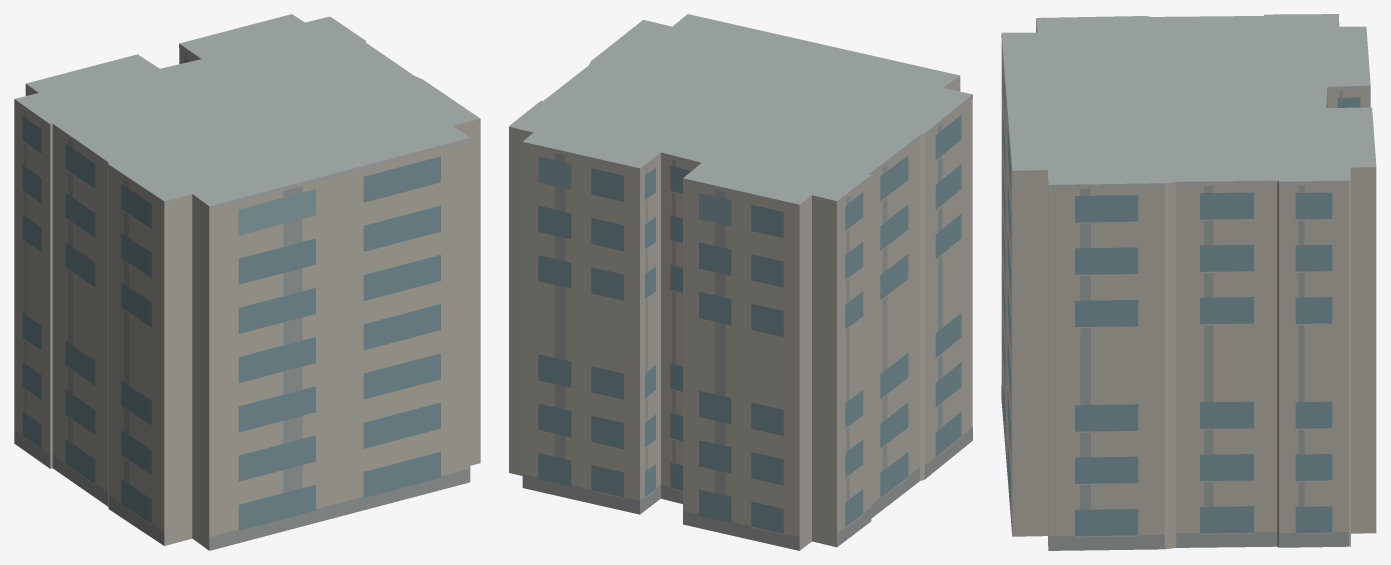
The model's file is survey-upis-32840839.glb.
3 renders of one model, left to right at view 1: azimuth 30°, elevation 25°; view 2: azimuth 150°, elevation 25°; view 3: azimuth 270°, elevation 25°, orthographic. The views are drawn at different scales.
Parts seen in each view (by area): view 1: survey-upis-32840839.tmp; view 2: survey-upis-32840839.tmp; view 3: survey-upis-32840839.tmp.
Part boxes in pixels (<box>): survey-upis-32840839.tmp: <box>14,14,480,550</box>; survey-upis-32840839.tmp: <box>509,14,972,550</box>; survey-upis-32840839.tmp: <box>1001,14,1376,550</box>.
Size of the model in its own units: 20.03 by 20 by 18.57.
